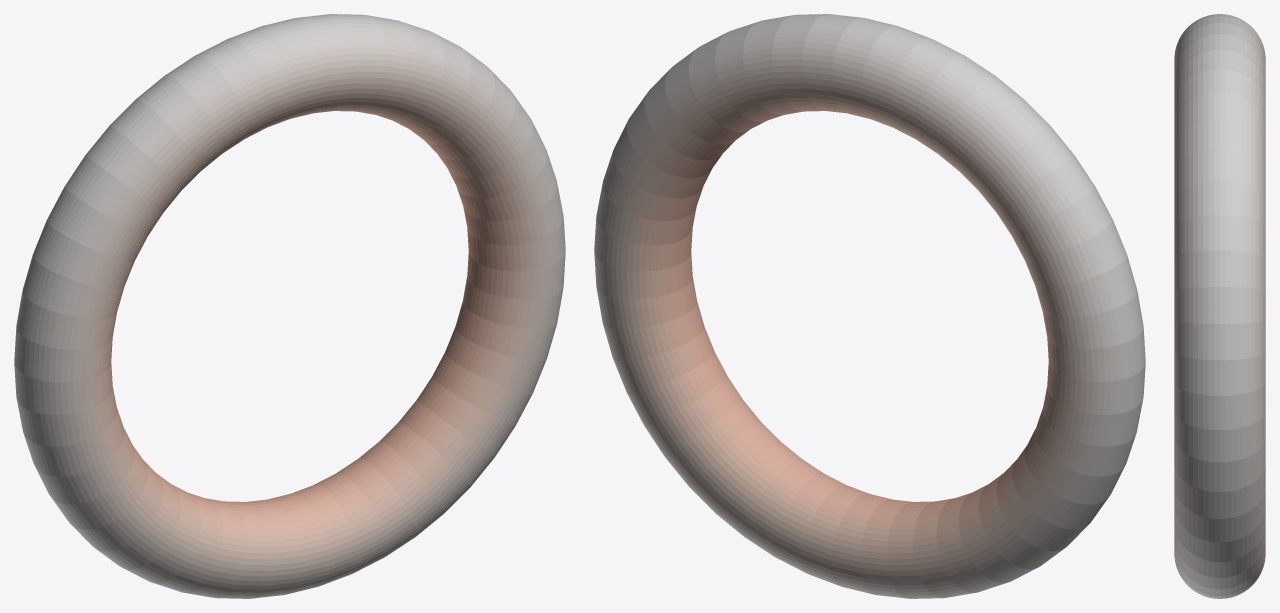
The picture shows the model from 3 angles, left to right: view 1: azimuth 30°, elevation 25°; view 2: azimuth 150°, elevation 25°; view 3: azimuth 270°, elevation 25°; orthographic projection. The views are drawn at different scales.
Visible parts, largest first — view 1: world; view 2: world; view 3: world.
Boxes of the visible parts, x1,y1,x2,y2 form: world: [14, 14, 565, 598]; world: [594, 14, 1145, 598]; world: [1174, 14, 1265, 598].
Bounding box in the file's own units: 31.6 × 31.54 × 4.92.
